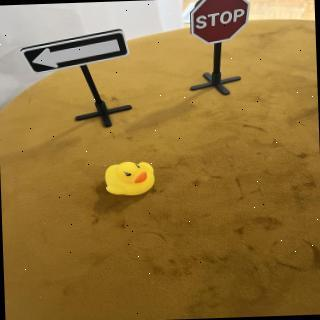duck_regular: (102, 160, 158, 200)
sign_oneway_left: (20, 29, 134, 79)
sign_stop: (188, 1, 253, 48)
